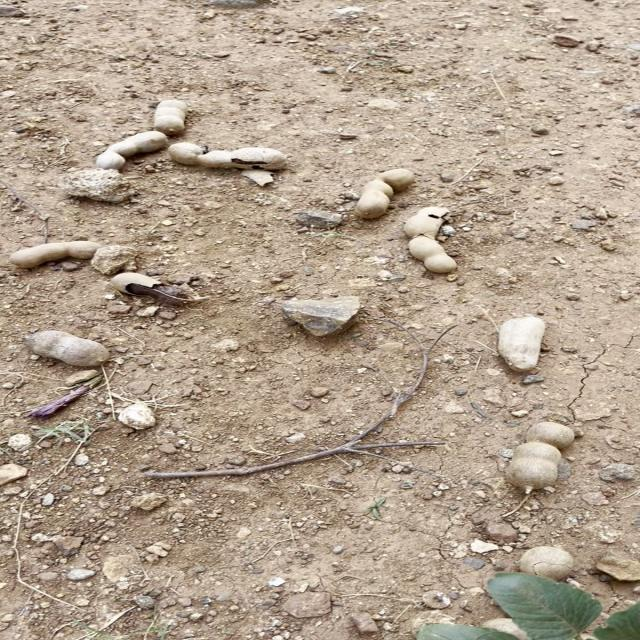tamarind: (501, 421, 575, 499), (400, 204, 459, 276), (21, 327, 119, 367), (352, 164, 409, 218), (172, 142, 294, 166), (12, 244, 94, 264), (155, 96, 190, 132)
